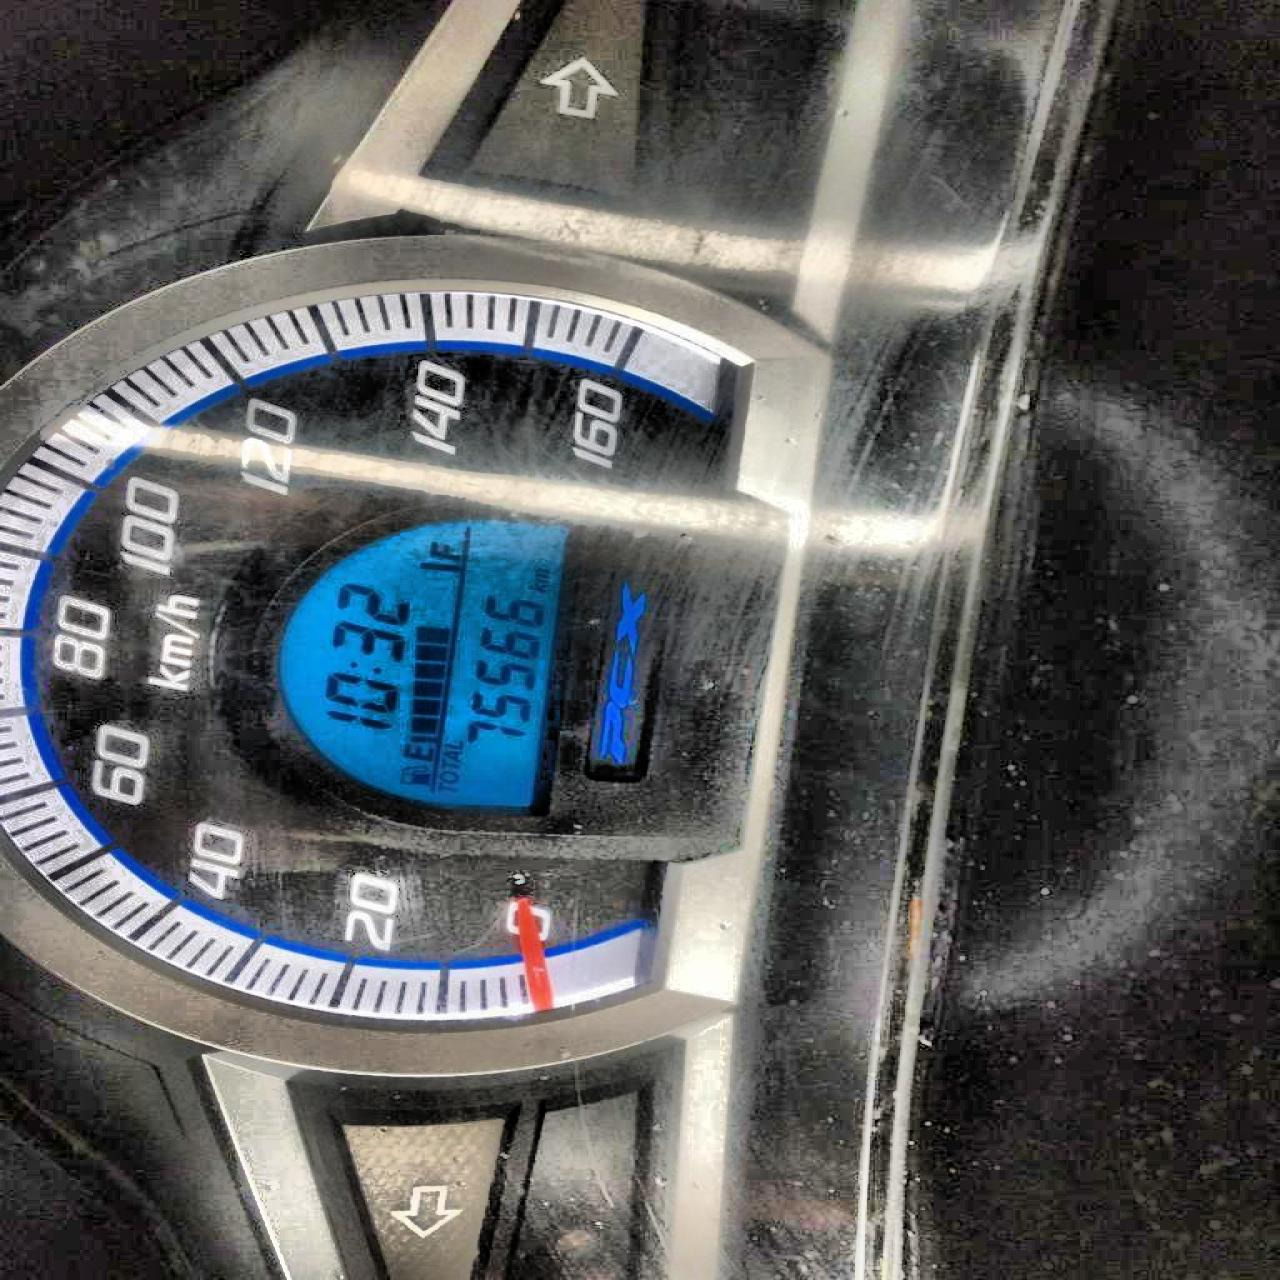0: (320, 674, 400, 708)
1: (316, 709, 395, 730)
2: (332, 583, 410, 619)
3: (325, 621, 407, 658)
5: (468, 660, 535, 689), (467, 692, 537, 719)
6: (475, 626, 540, 656), (482, 595, 543, 624)
7: (463, 720, 529, 742)
X: (427, 540, 461, 560), (400, 741, 431, 761), (345, 659, 384, 673), (435, 769, 459, 782), (530, 567, 550, 581), (438, 757, 458, 769), (442, 738, 463, 749), (525, 581, 549, 591), (435, 781, 455, 791), (442, 749, 462, 760)
odometer: (260, 504, 584, 826)
